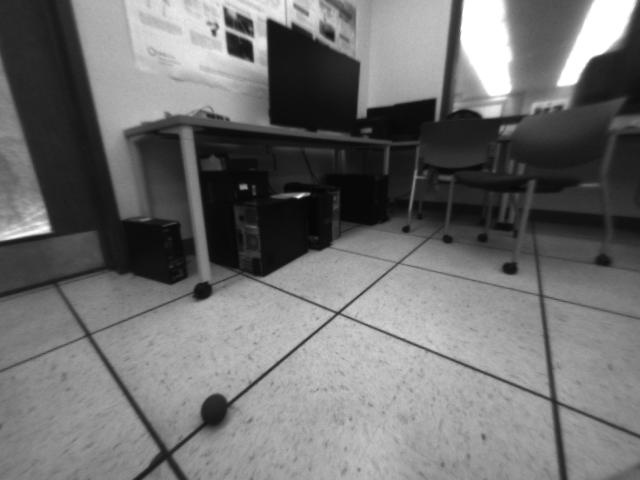dogtoy: (193, 387, 236, 433)
